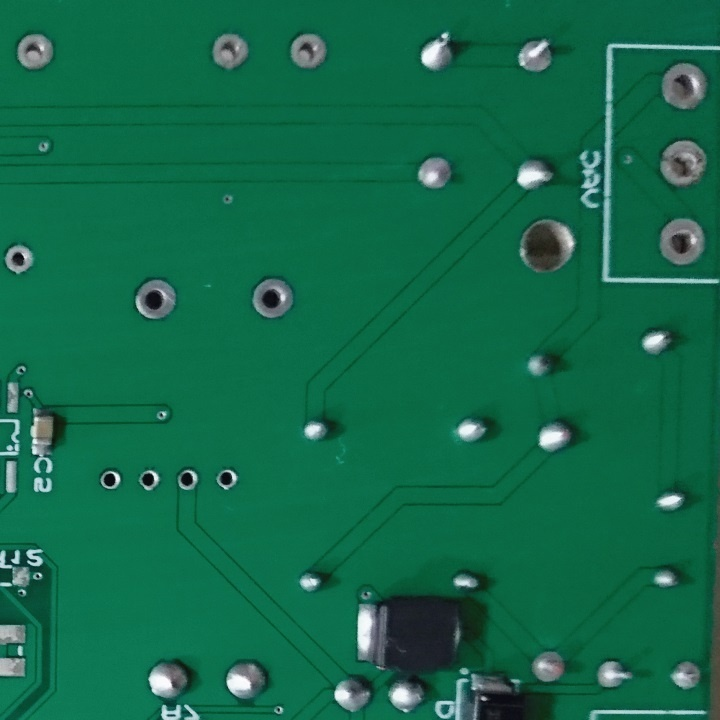F: (657, 57, 712, 114), (655, 213, 708, 272), (656, 136, 708, 191), (247, 272, 297, 324), (131, 272, 181, 323), (287, 27, 332, 78), (13, 29, 63, 74), (514, 32, 559, 81), (211, 29, 253, 74), (413, 149, 456, 192), (530, 648, 570, 686), (589, 658, 633, 692), (1, 240, 41, 276), (668, 658, 704, 694), (175, 464, 204, 492), (137, 466, 163, 495), (215, 466, 239, 495), (99, 467, 124, 492)
